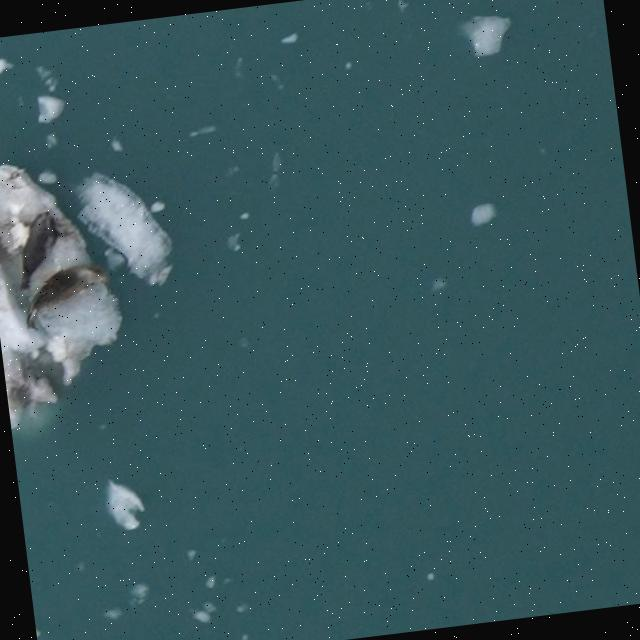seal: (26, 263, 107, 328), (21, 212, 59, 285)
